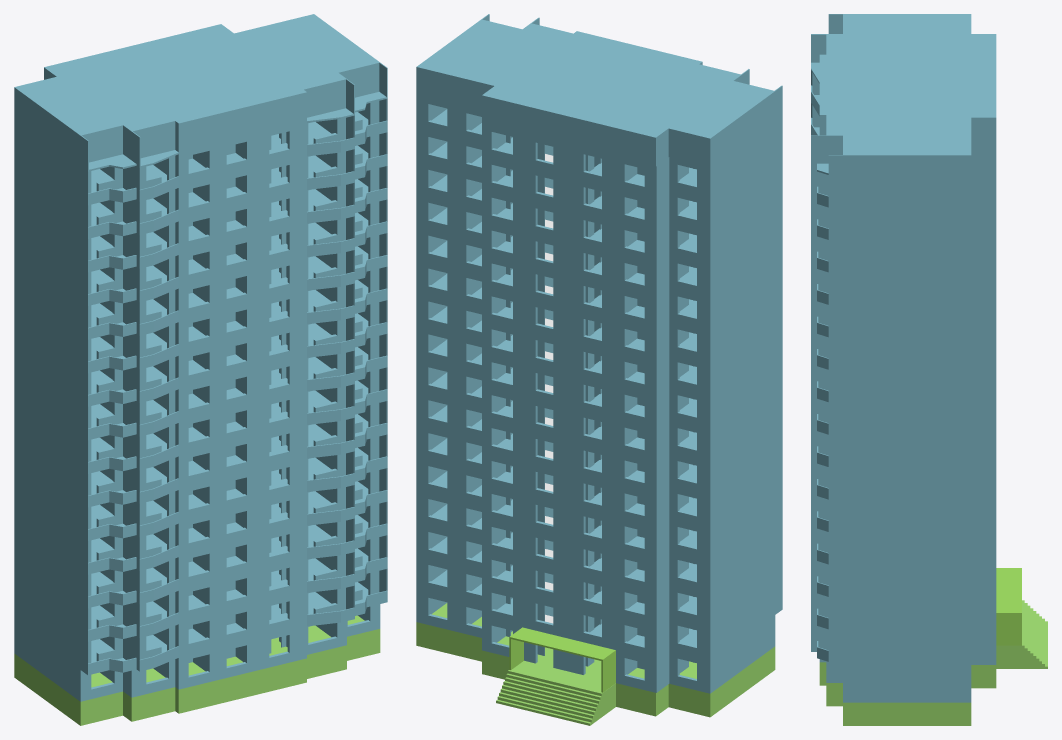
Rendered from building2.glb.
3 renders of one model, left to right at view 1: azimuth 30°, elevation 25°; view 2: azimuth 150°, elevation 25°; view 3: azimuth 270°, elevation 25°, orthographic. The views are drawn at different scales.
Parts seen in each view (by area): view 1: Floor_Walls, Overlaping, Roof, Basement, 1st_Floor_Walls; view 2: Floor_Walls, Roof, Overlaping, Basement, 1st_Floor_Walls, Entrance, Stairs; view 3: Floor_Walls, Roof, Overlaping, Basement, 1st_Floor_Walls, Entrance.
Part boxes in pixels (x1=…): Floor_Walls: x1=14, y1=101, x2=379, y2=667; Overlaping: x1=80, y1=98, x2=387, y2=675; Roof: x1=14, y1=14, x2=387, y2=171; Basement: x1=14, y1=615, x2=380, y2=725; 1st_Floor_Walls: x1=14, y1=604, x2=380, y2=701; Floor_Walls: x1=416, y1=95, x2=775, y2=660; Roof: x1=416, y1=14, x2=782, y2=166; Overlaping: x1=431, y1=109, x2=782, y2=645; Basement: x1=416, y1=603, x2=775, y2=725; 1st_Floor_Walls: x1=416, y1=589, x2=775, y2=693; Entrance: x1=509, y1=627, x2=615, y2=692; Stairs: x1=545, y1=154, x2=553, y2=623; Floor_Walls: x1=826, y1=145, x2=996, y2=670; Roof: x1=811, y1=14, x2=996, y2=184; Overlaping: x1=811, y1=70, x2=842, y2=671; Basement: x1=819, y1=600, x2=1047, y2=725; 1st_Floor_Walls: x1=819, y1=632, x2=996, y2=702; Entrance: x1=996, y1=568, x2=1021, y2=645.
Bounding box in the file's own units: 25.98 × 48.88 × 18.38.
